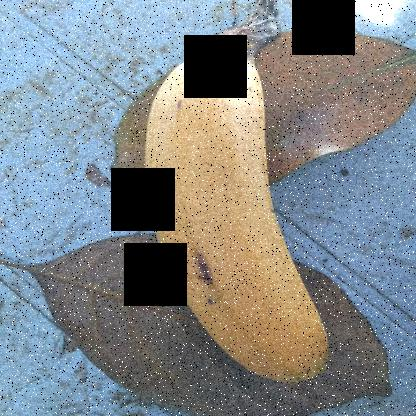freshripe: (130, 32, 354, 400)
